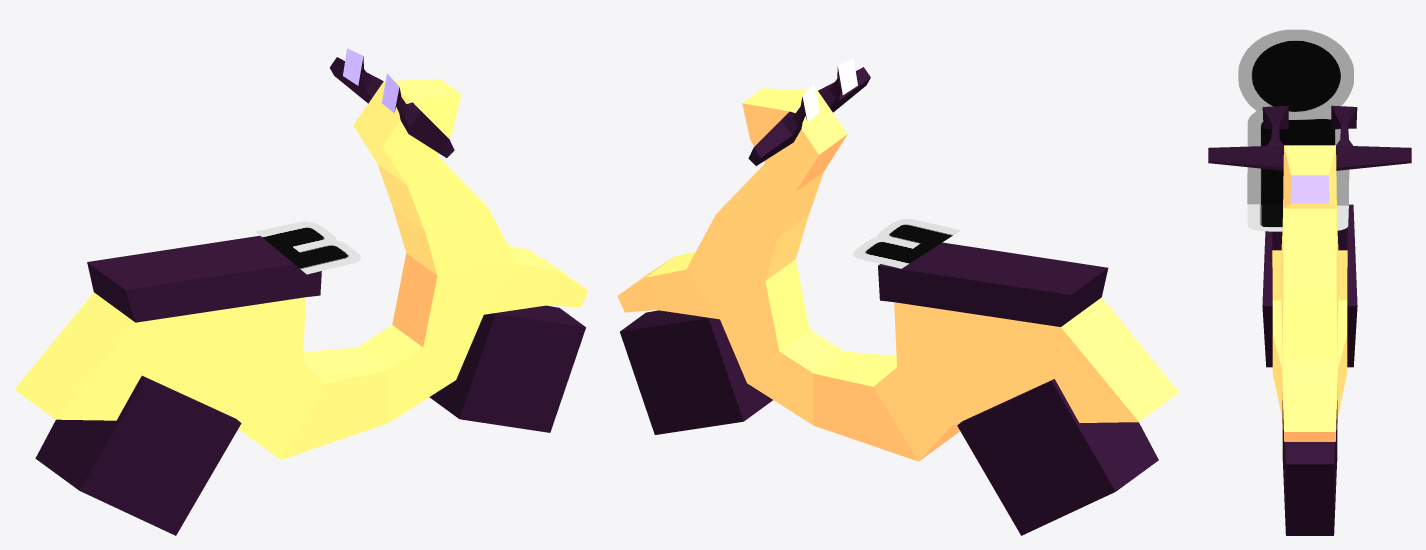
File: Motor_NoSpion_NoPlat.fbx
3 views of the same model, side by side, from view 1: azimuth 30°, elevation 25°; view 2: azimuth 150°, elevation 25°; view 3: azimuth 270°, elevation 25° (orthographic). The views are drawn at different scales.
Visible parts, largest first — view 1: Motor_NoSpion_NoPlat, Sprite People.002; view 2: Motor_NoSpion_NoPlat, Sprite People.002; view 3: Motor_NoSpion_NoPlat, Sprite People.002.
Part boxes in pixels (x1,y1,x2,y2): Motor_NoSpion_NoPlat: [14, 48, 588, 535]; Sprite People.002: [255, 221, 360, 274]; Motor_NoSpion_NoPlat: [617, 58, 1179, 535]; Sprite People.002: [853, 218, 960, 268]; Motor_NoSpion_NoPlat: [1208, 105, 1411, 535]; Sprite People.002: [1238, 29, 1353, 231].
Size of the model in its own units: 262 by 210 by 95.02.
